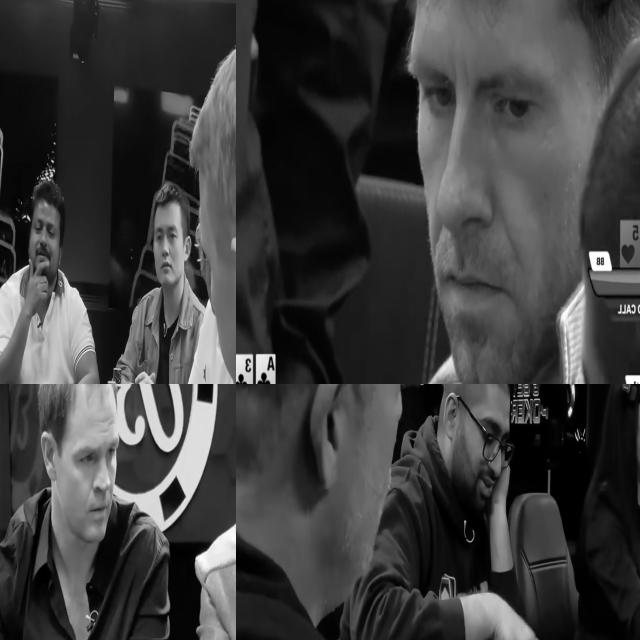3C: (236, 354, 252, 384)
5H: (621, 221, 640, 265)
AC: (256, 354, 274, 384)
